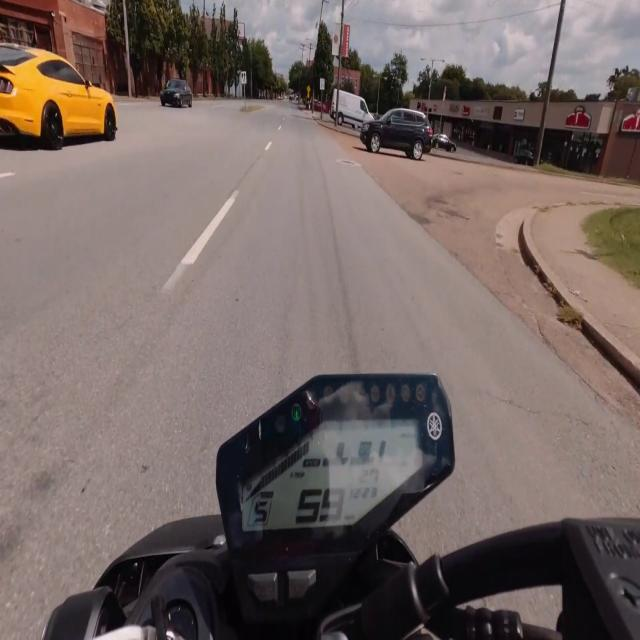car: (0, 44, 116, 149), (360, 108, 432, 159), (160, 79, 192, 107), (432, 134, 456, 152)
motorcycle: (42, 375, 639, 639)
